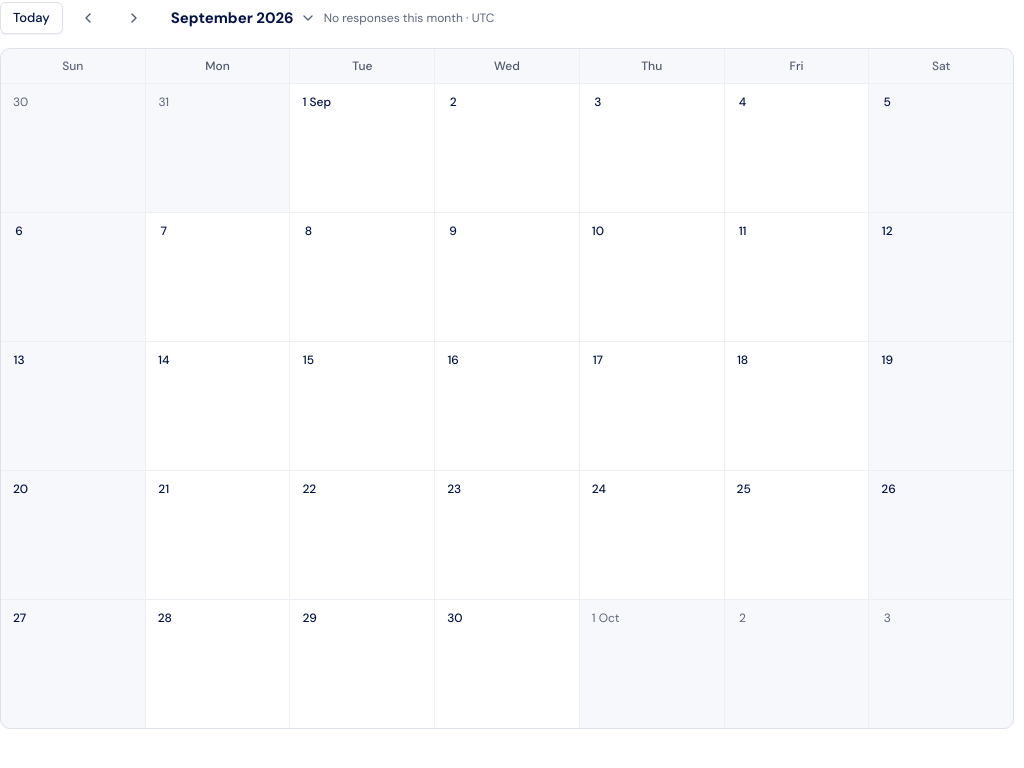
Test: jumping to a month › reopens on the year being shown, not the year last browsed
This screenshot has width=1024, height=768.
Click the button "September 2026".
click(243, 18)  # box [163,5,324,31]
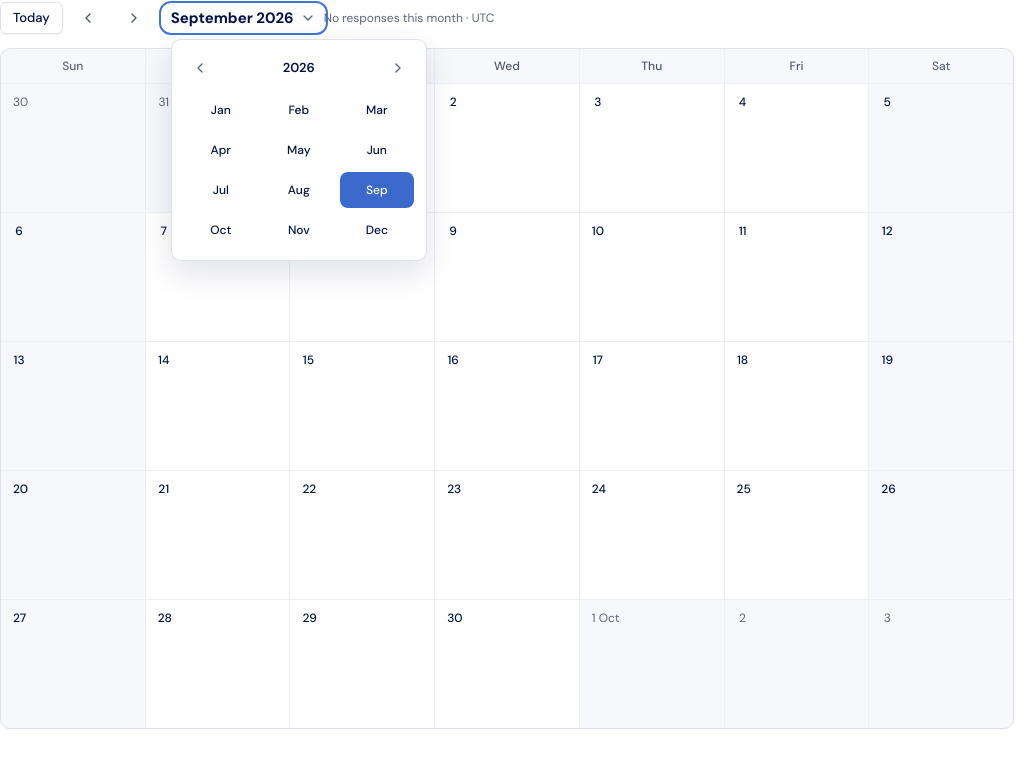
Click the button named "Next year".
click(398, 68)  # box [382,52,414,84]
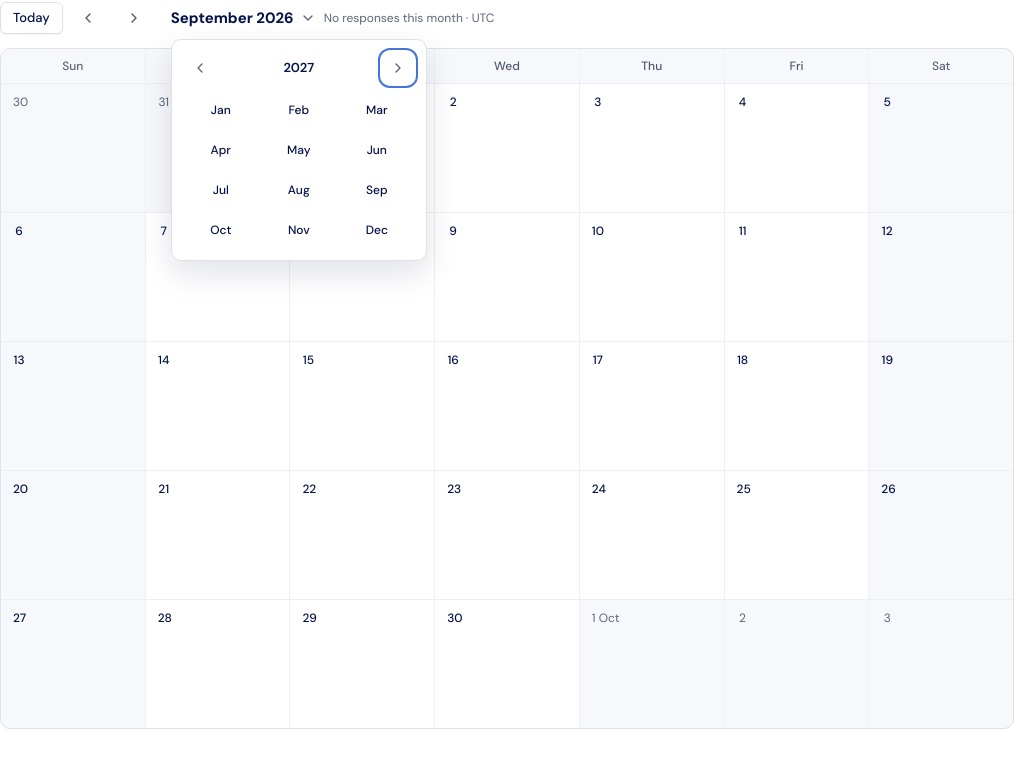
Press Escape
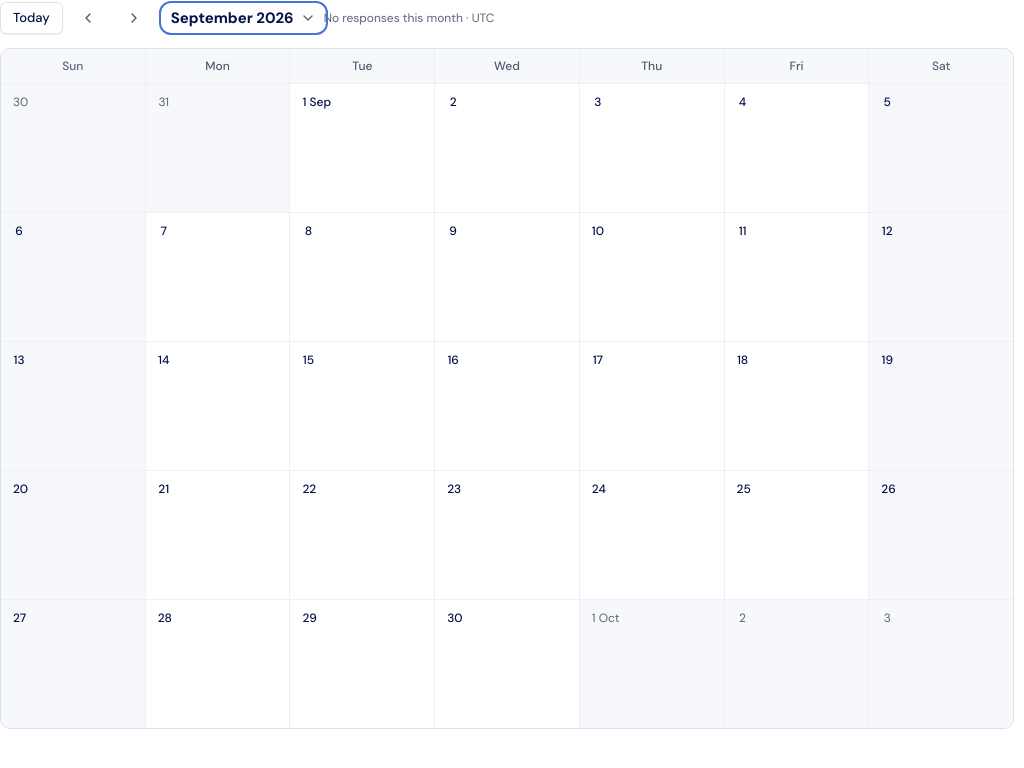
Click the button "September 2026".
click(243, 18)  # box [163,5,324,31]
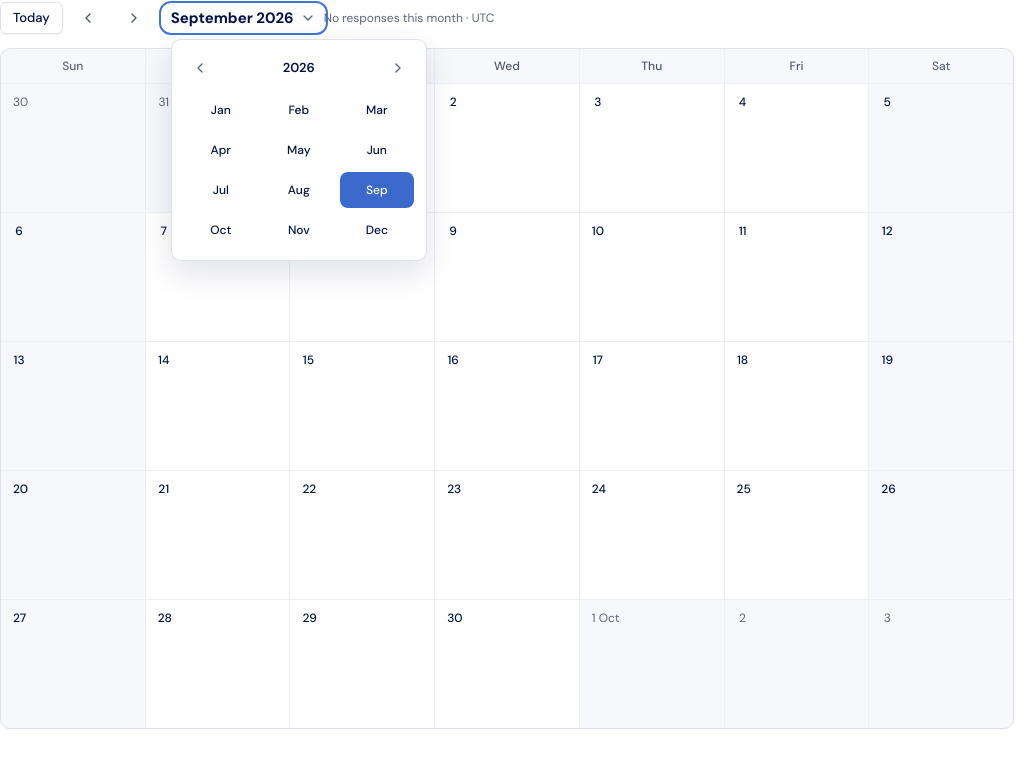
expect the text "2026" is shown: met, box [283,58,315,78]
